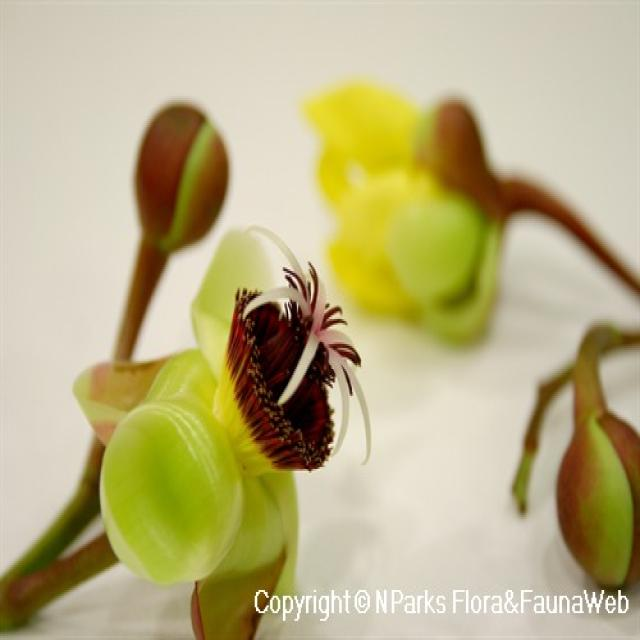Simpoh-Lak: (70, 104, 375, 640), (297, 75, 500, 359), (554, 302, 640, 590)
